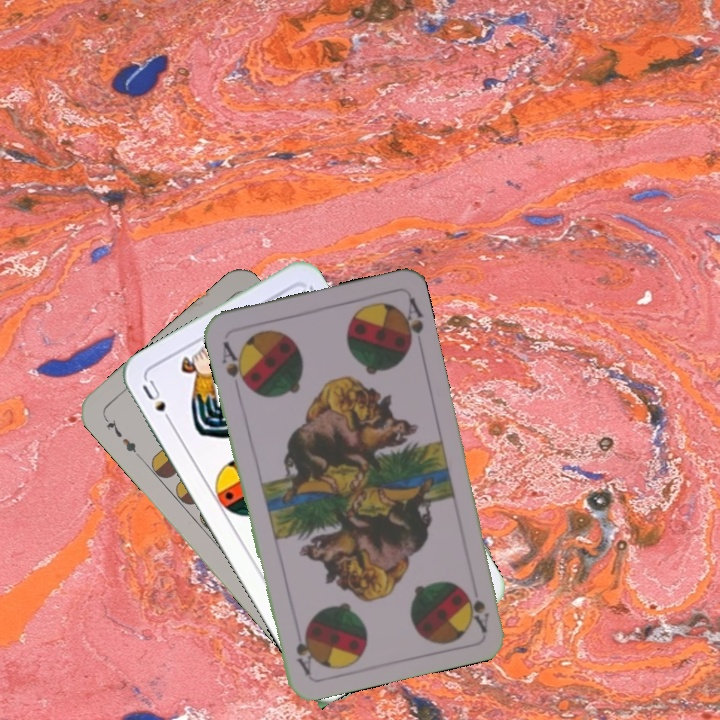E7: (99, 413, 139, 455)
SA: (218, 337, 251, 391), (461, 586, 492, 634)
SU: (138, 375, 177, 429)
